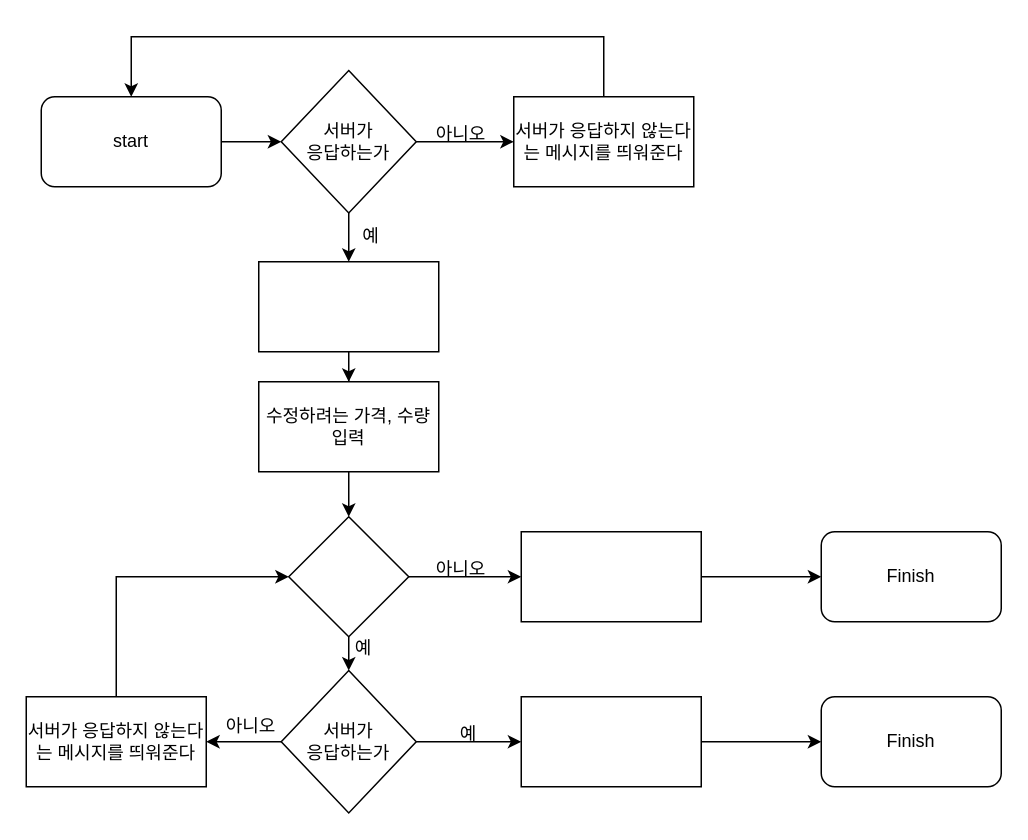
The diagram is 1028 pixels wide and 840 high, and some of its shapes have lost their labels. Here are the shapes that lost their labels. From the top down, the centre of each, then its label:
[348,306]: DB에서 아이템 이름, 아이템 정보를 가져와 텍스트뷰 변경
[348,576]: 수정하기 버튼 터치
[610,576]: 판매중인 아이템 화면으로이동
[610,741]: DB에 수정하려는 아이템 정보 전송
